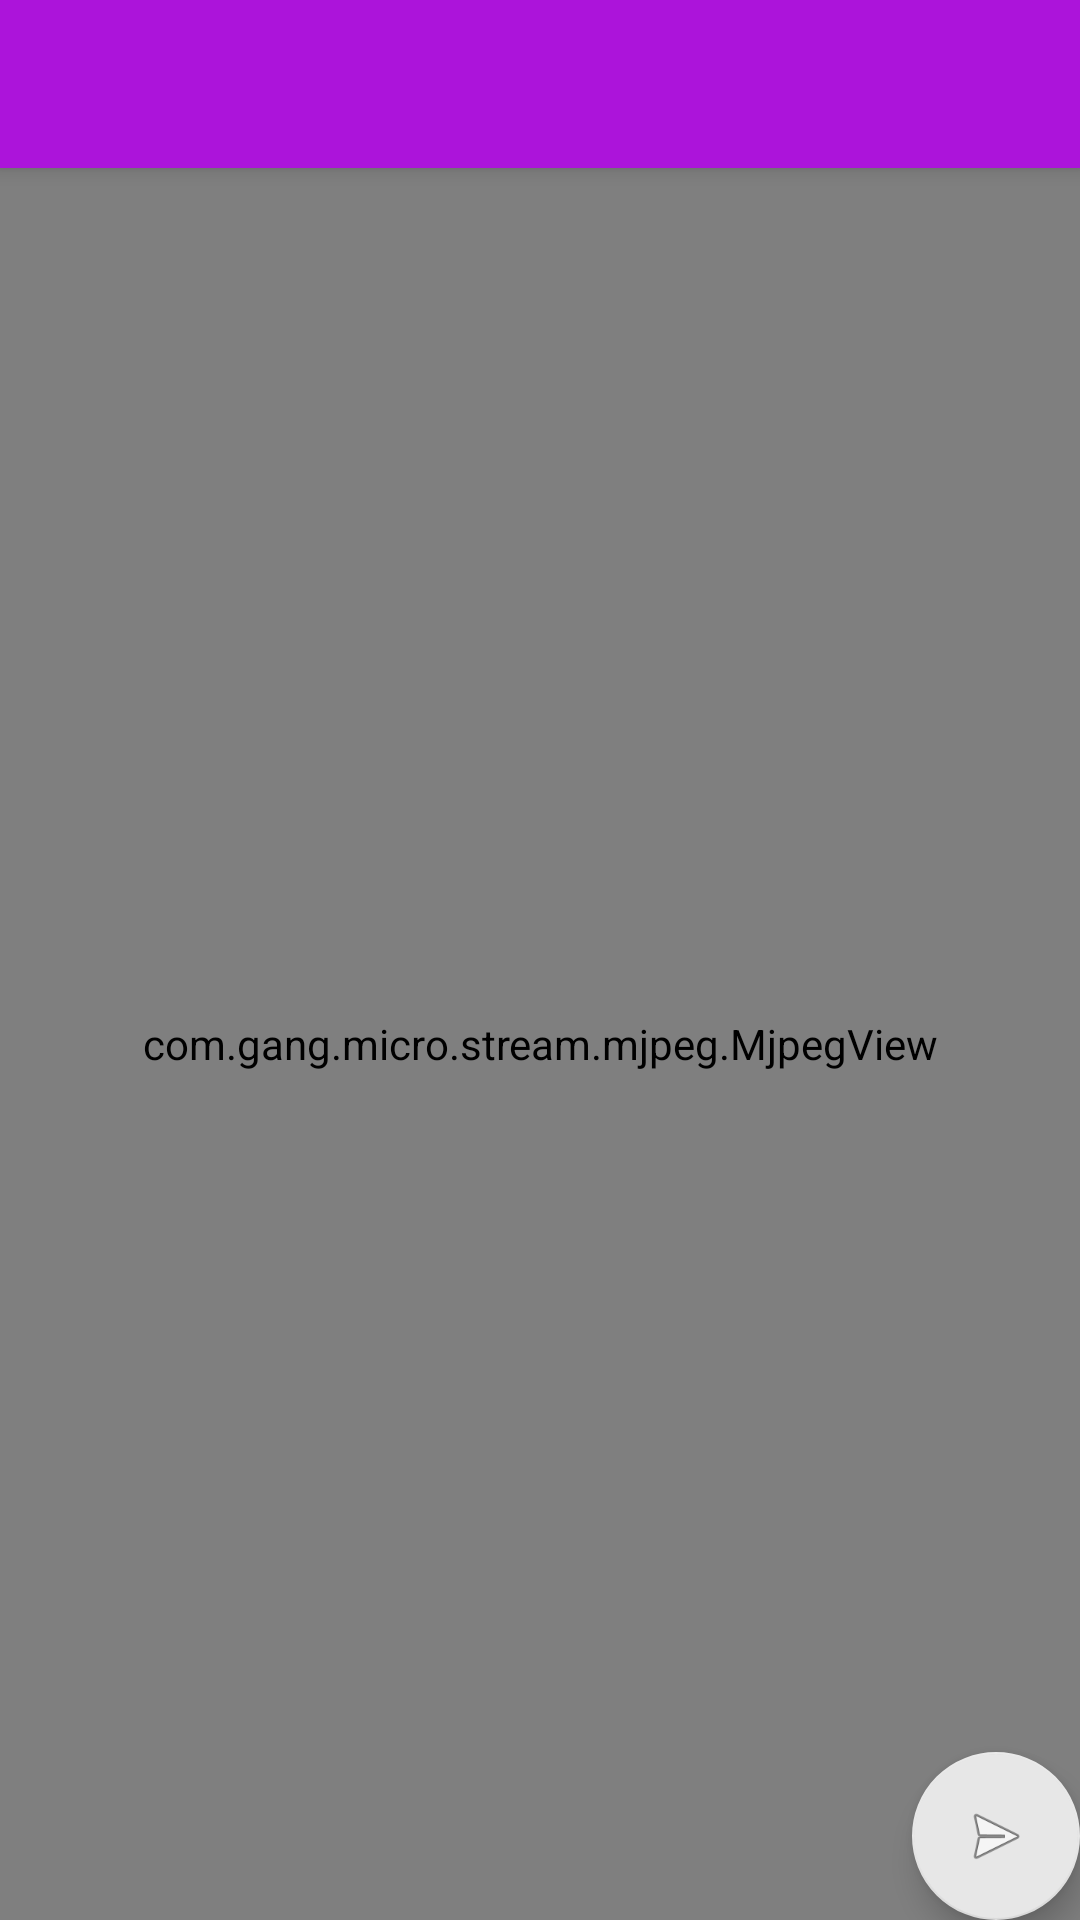

Icon click points for this 1080x1920 phone screenshot, format (x=x, y=y):
send: (x=996, y=1836)
